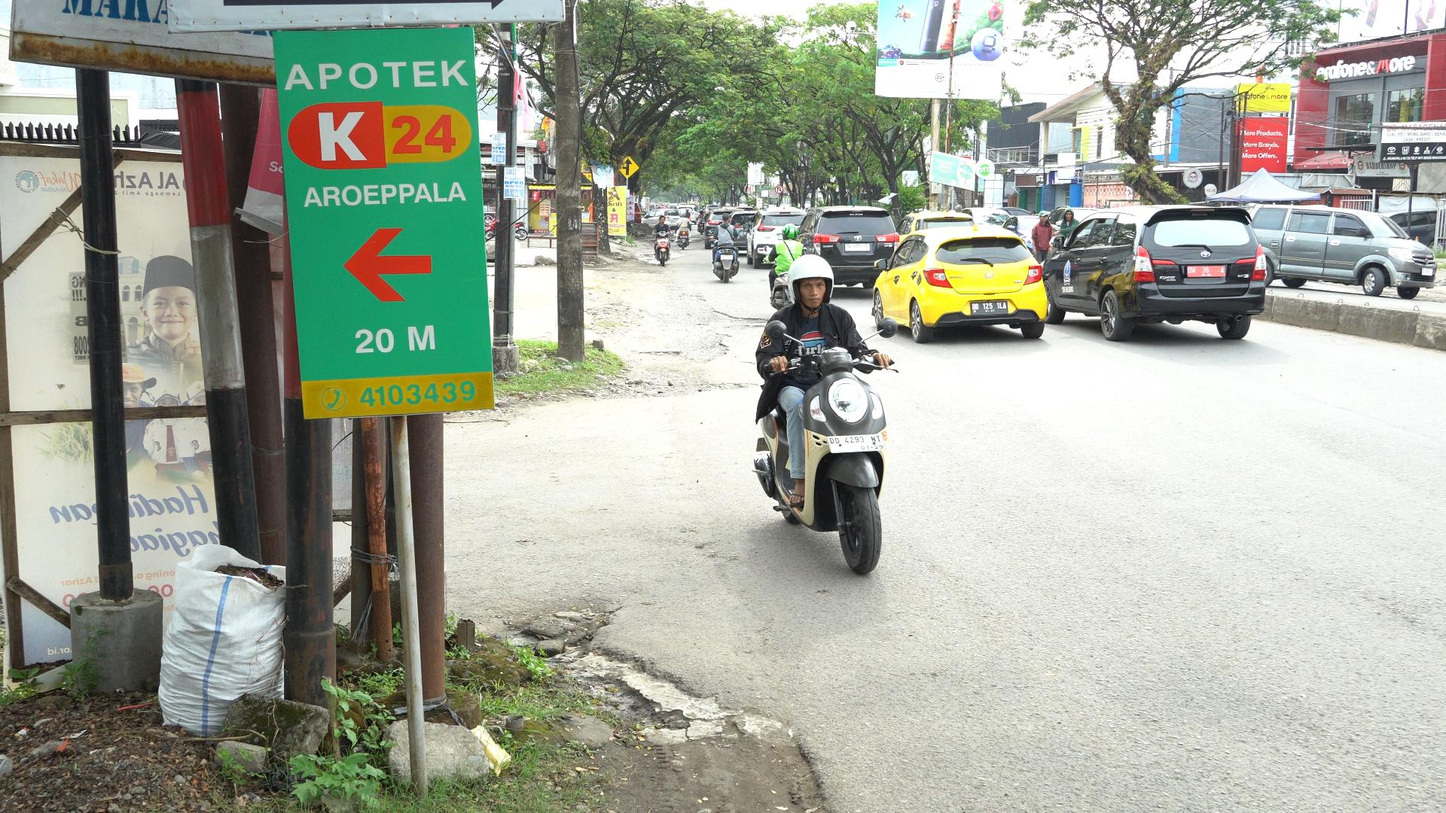number-plate: (827, 434, 886, 455)
